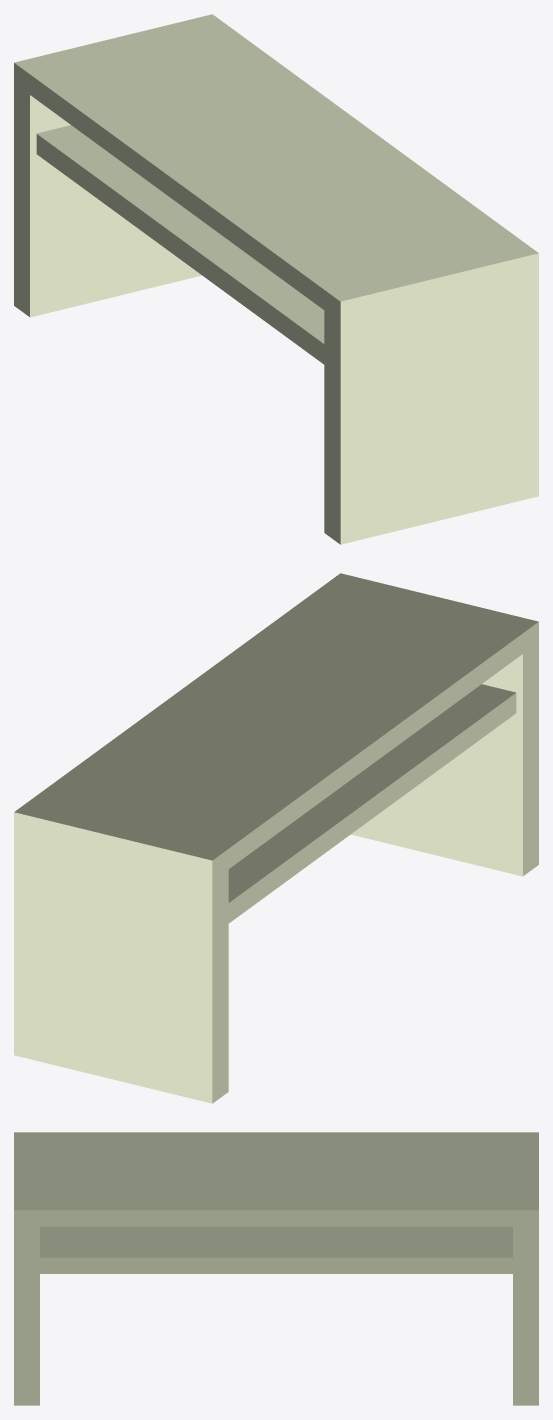
The model's file is cotf_desk.FBX.
3 views of the same model, one above another, from view 1: azimuth 30°, elevation 25°; view 2: azimuth 150°, elevation 25°; view 3: azimuth 270°, elevation 25° (orthographic). The views are drawn at different scales.
Visible parts, largest first — view 1: cotf_desk; view 2: cotf_desk; view 3: cotf_desk.
Part boxes in pixels (box(x1,y1,x2,y2)): cotf_desk: box(14, 14, 538, 544); cotf_desk: box(14, 573, 538, 1103); cotf_desk: box(14, 1132, 538, 1405).
Bounding box in the file's own units: 0.748 × 0.8757 × 2.13.
